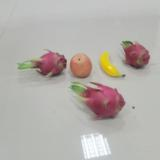apple: (69, 53, 92, 79)
pitaya: (73, 80, 126, 119), (24, 51, 68, 76), (121, 39, 150, 68)
